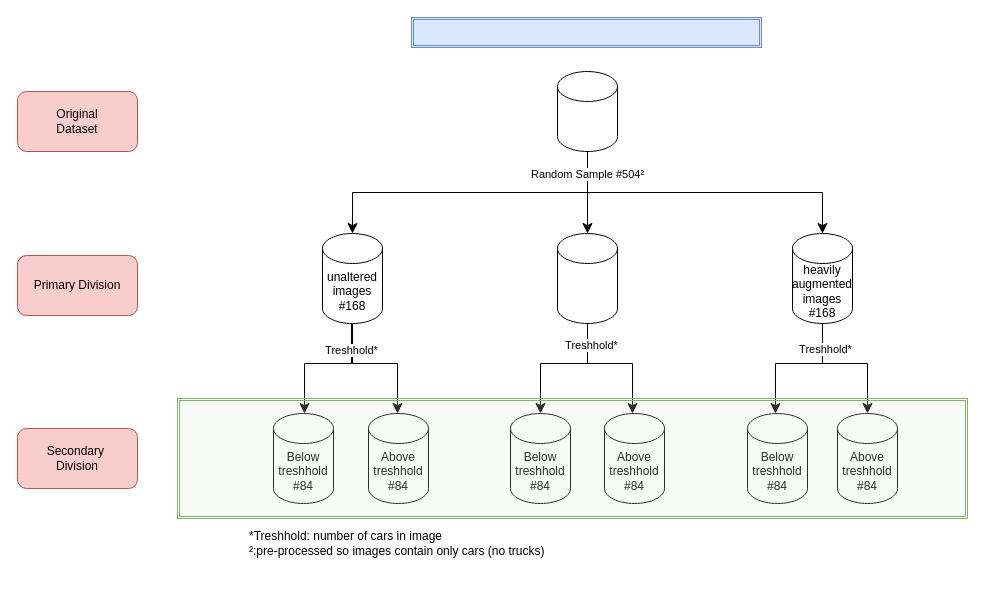
Some shapes in this 985 by 591 pixel diagram are drawn without their labels. Here are the shapes that lost their labels. From the top down, the centre of each, then its label:
At [586,32]: "Dataset composition".
At [587,111]: "Cityscapes dataset #29810".
At [587,278]: "slightly augmented images #168".
At [572,458]: "Datasets used in artefact".
